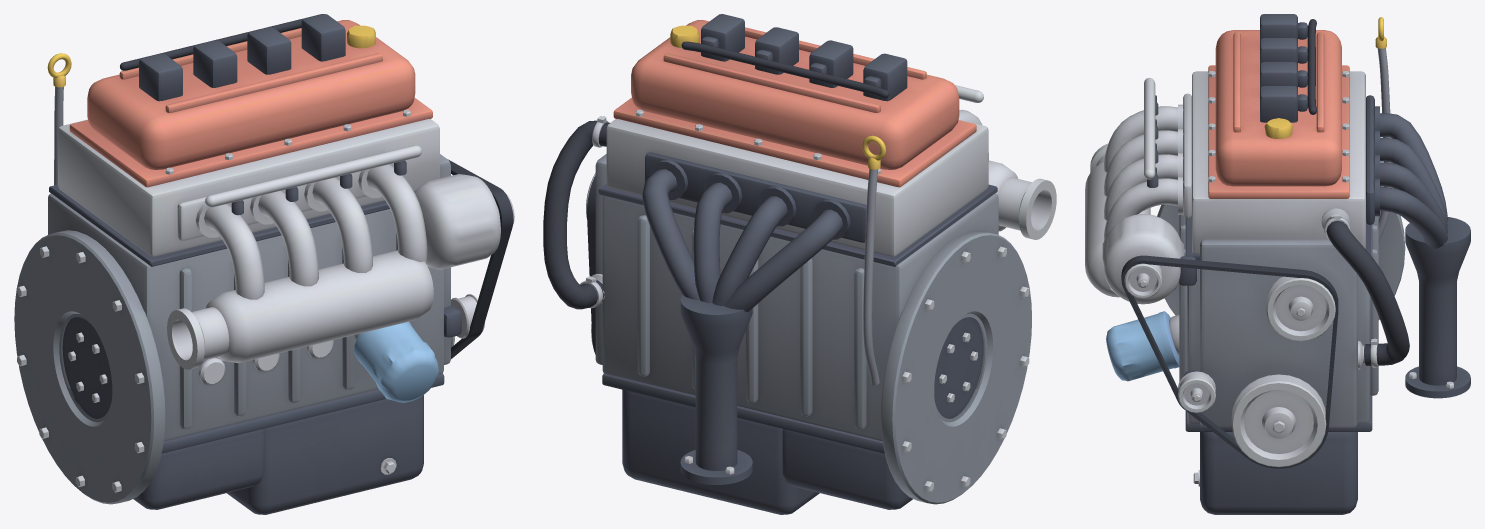
Rendered from car-engine.glb.
3 views of the same model, side by side, from view 1: azimuth 30°, elevation 25°; view 2: azimuth 150°, elevation 25°; view 3: azimuth 270°, elevation 25° (orthographic). The views are drawn at different scales.
Visible parts, largest first — view 1: car-engine_body; view 2: car-engine_body; view 3: car-engine_body.
Boxes of the visible parts, <box> form: car-engine_body: <box>14,14,514,514</box>; car-engine_body: <box>543,14,1056,514</box>; car-engine_body: <box>1085,14,1470,514</box>.
Size of the model in its own units: 0.7075 by 0.8143 by 0.7088.
Materials: 1 (1 with a texture image).
